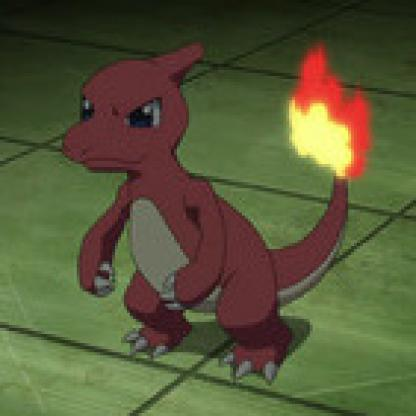Charmeleon: (33, 23, 387, 385)
